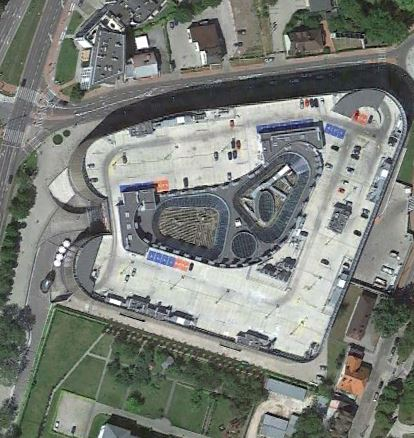block of flats: (71, 1, 170, 94)
shopping_center: (67, 84, 410, 374)
